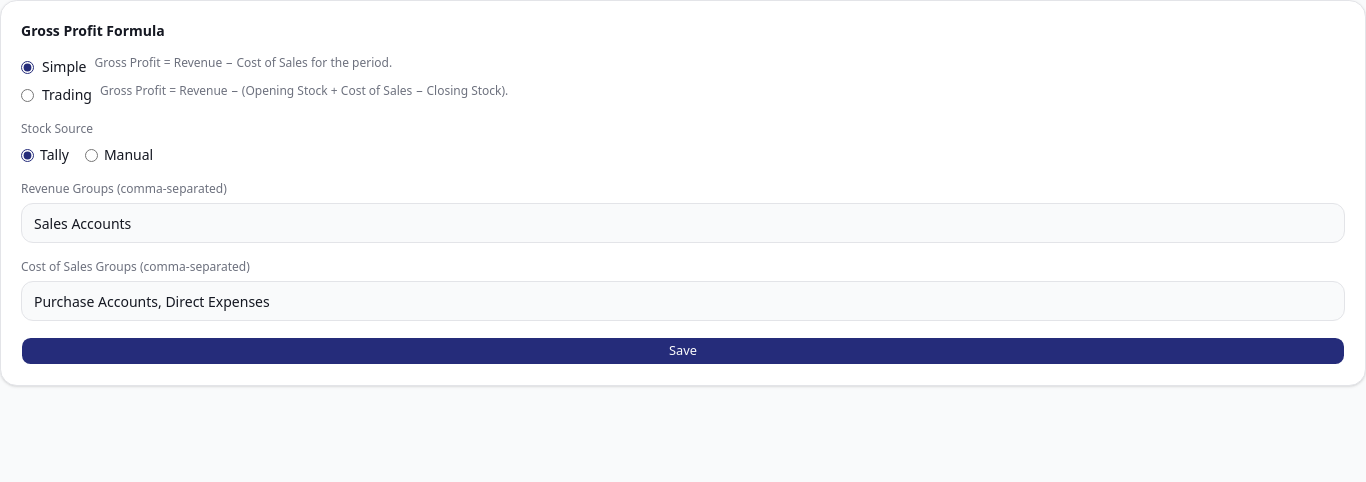
Test case: FormulaWidget (§3.9) › reveals manual stock inputs only when stock source is Manual
This screenshot has width=1366, height=482.
Expected: the radio button labelled "simple" is shown, [21,60,34,74]
Click the radio button labelled "manual" at (91, 155), box [85,148,98,162]
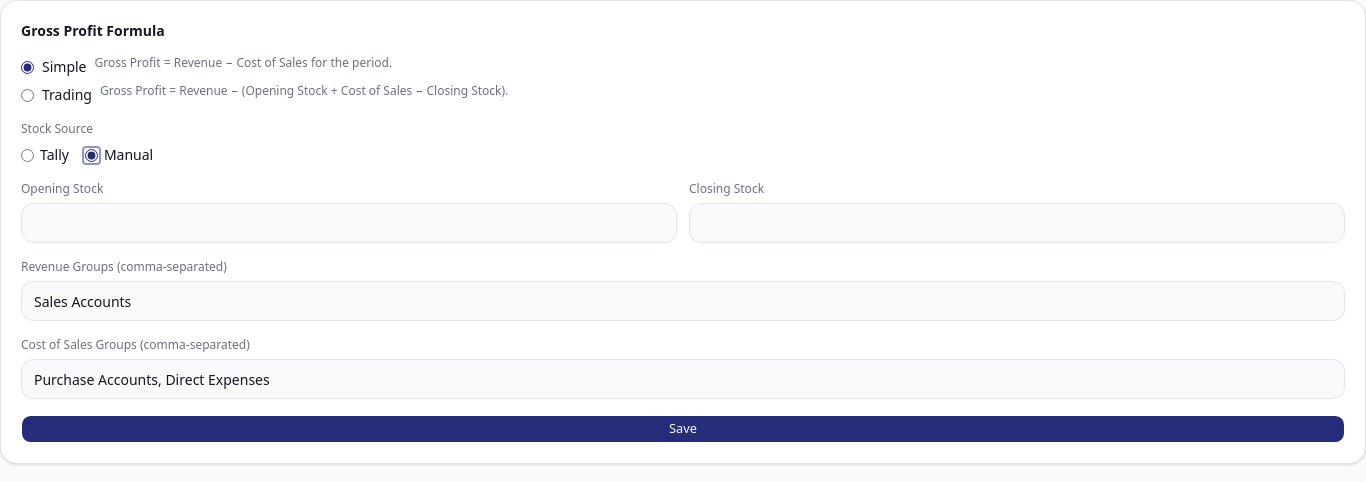
Result: the field labelled "Opening Stock" is shown at [21,203,677,243]
